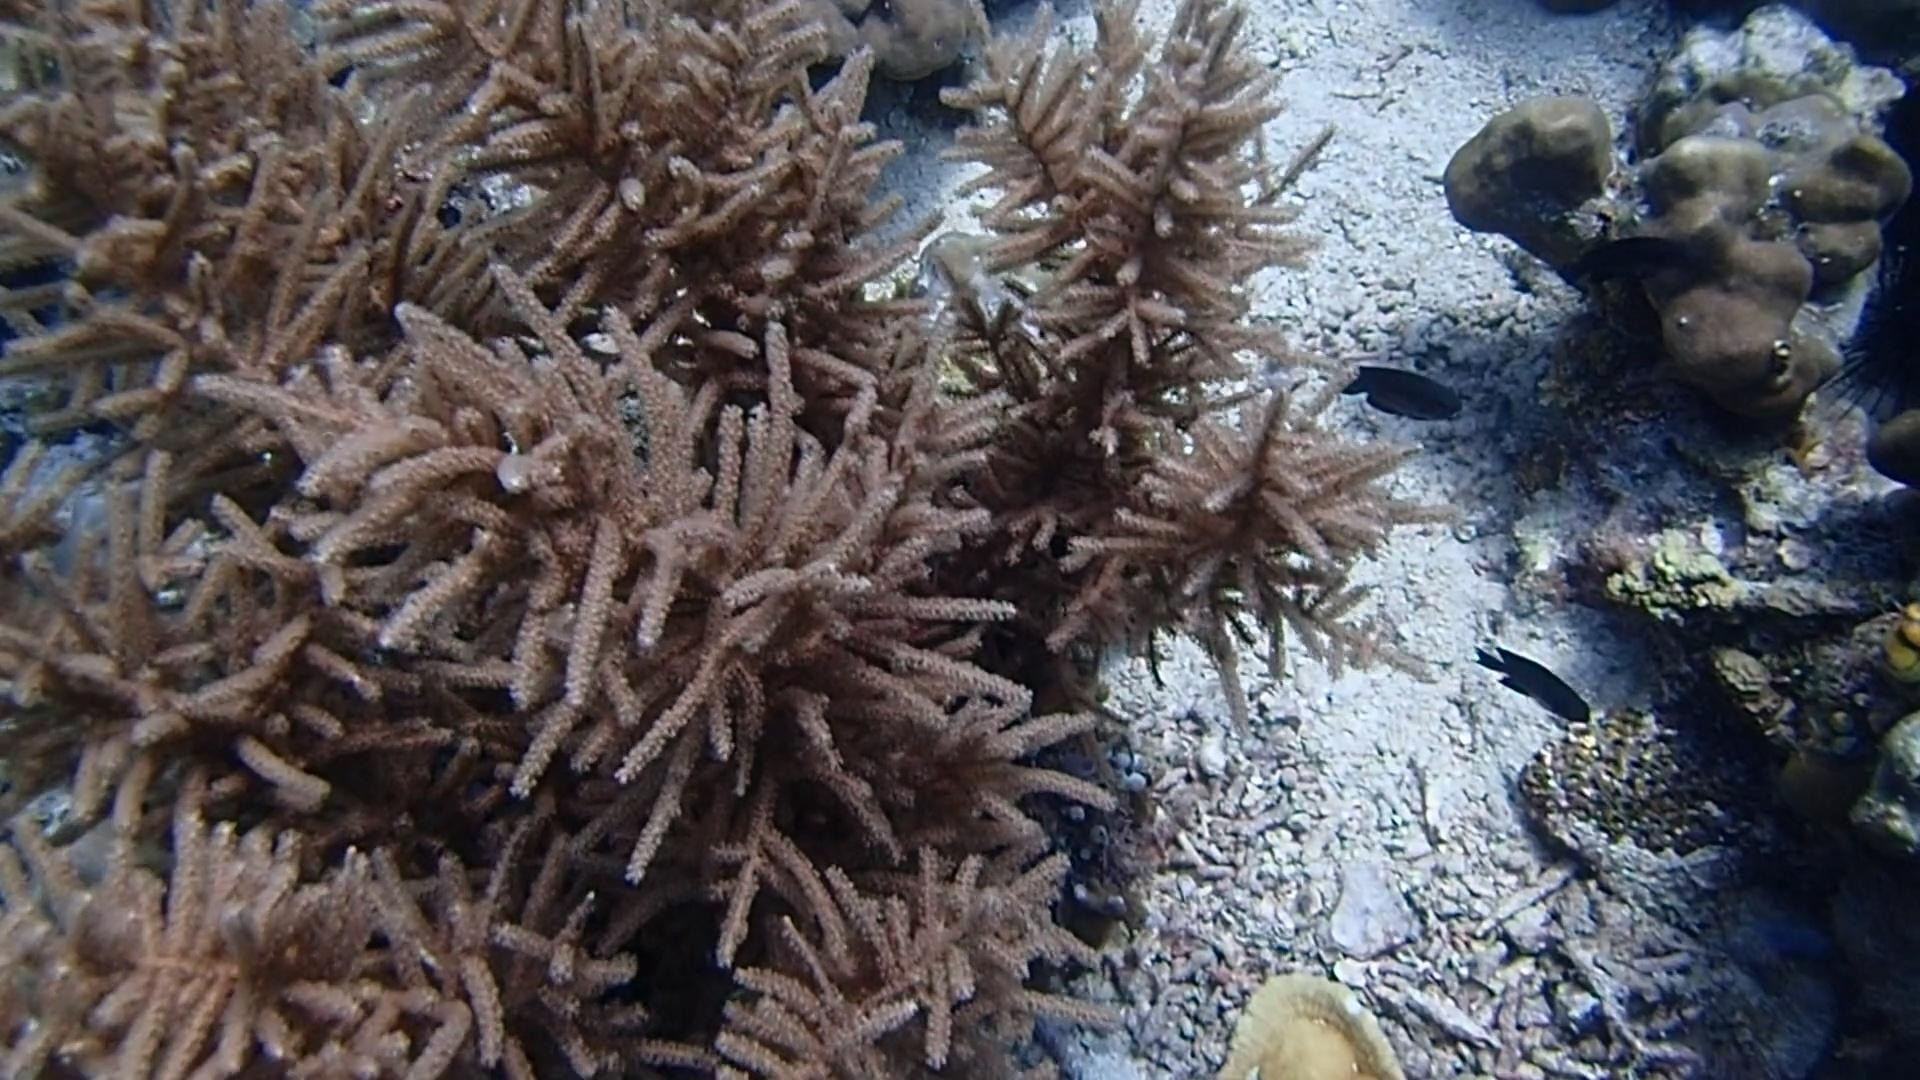Dark Fish: (1335, 345, 1468, 436), (1470, 633, 1594, 731), (1571, 222, 1688, 291)
